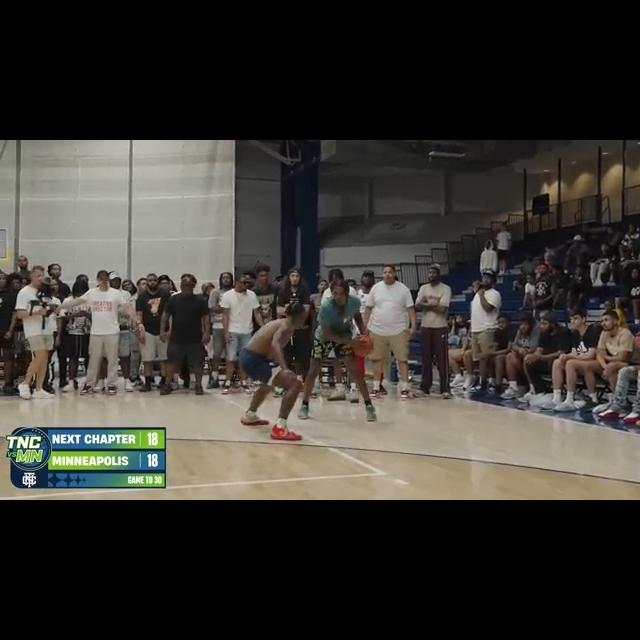basketball: (352, 334, 373, 355)
